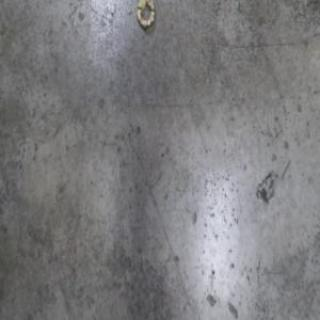Nuttrack_idkeyframe: (134, 0, 155, 33)
